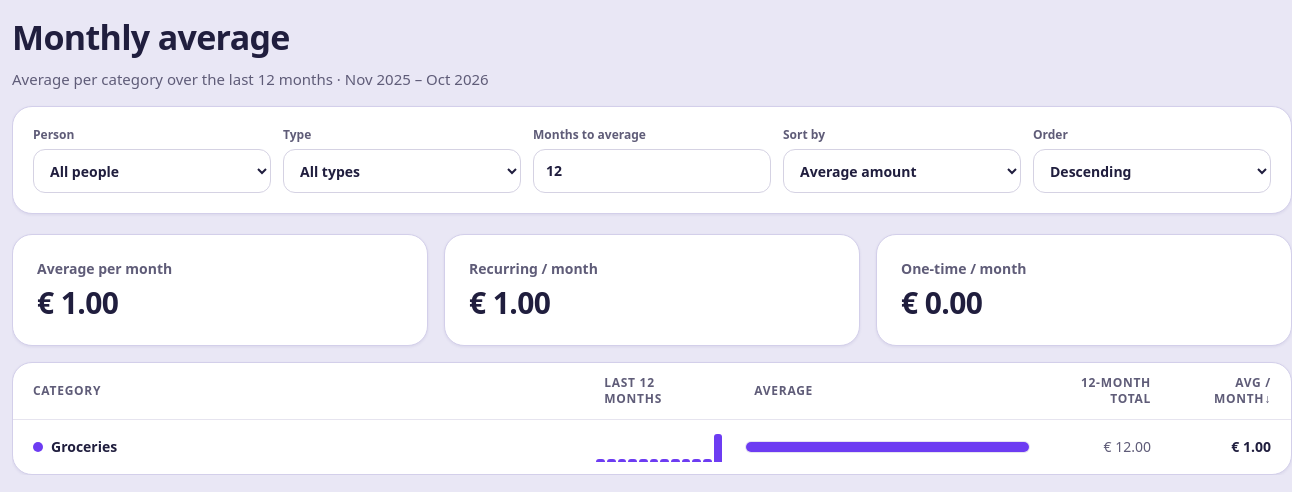
Test: monthly category average page › shows no rows when a filter leaves nothing in the window while typed figures stay person-scoped
Select "One-time" in the dropdown with test id "expense-type-filter": (402, 171) [283,149,521,193]
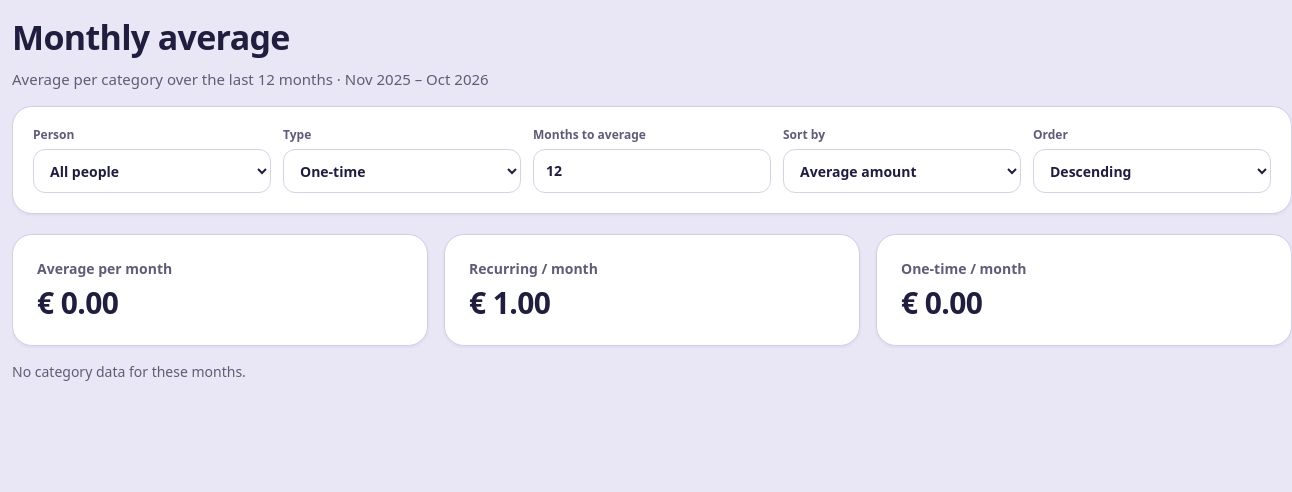
Check: no rows with test id "category-average" are shown
Check: the text with test id "no-data" reads "No category data for these months.", box [12,362,246,381]
